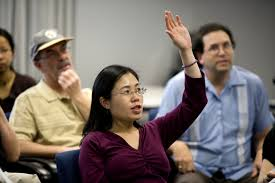hand: (163, 9, 193, 51)
